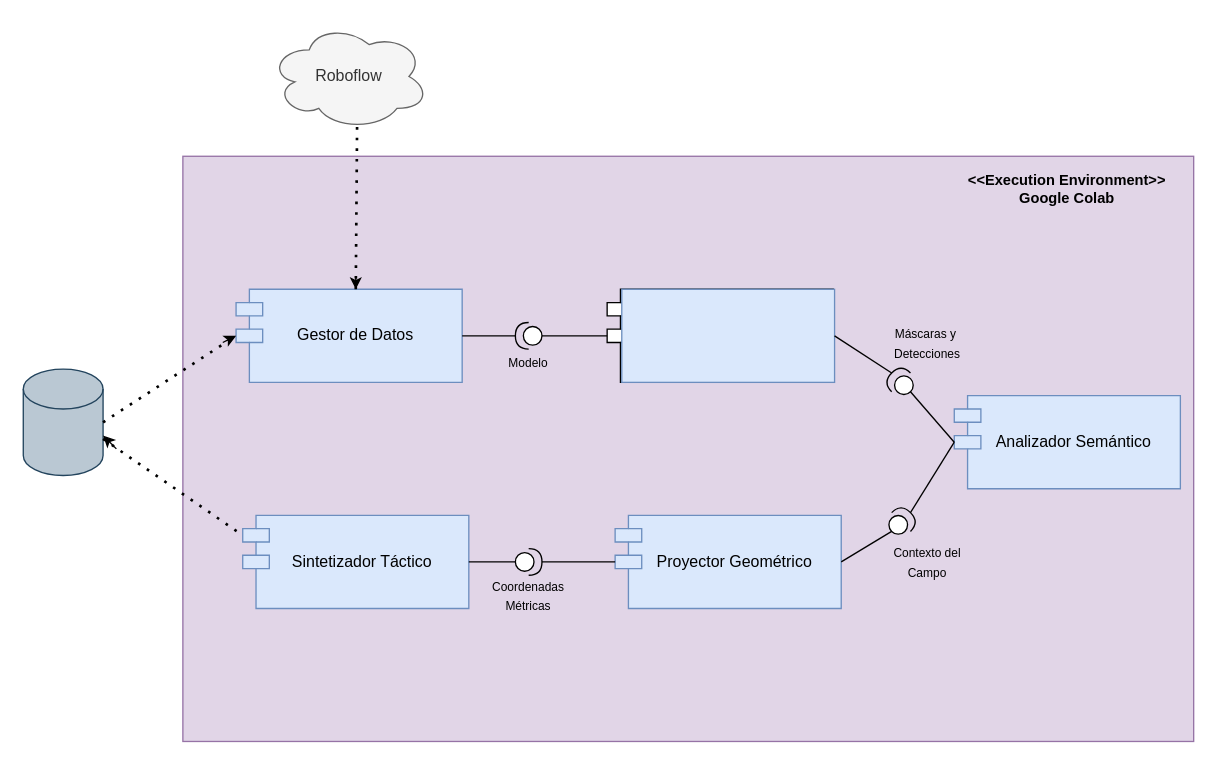
The diagram is 1217 pixels wide and 765 high, and some of its shapes have lost their labels. Each missing label, with the centre of its shape:
"Google Drive" belongs at point (62, 421).
"Motor de Inferencia" belongs at point (727, 335).
